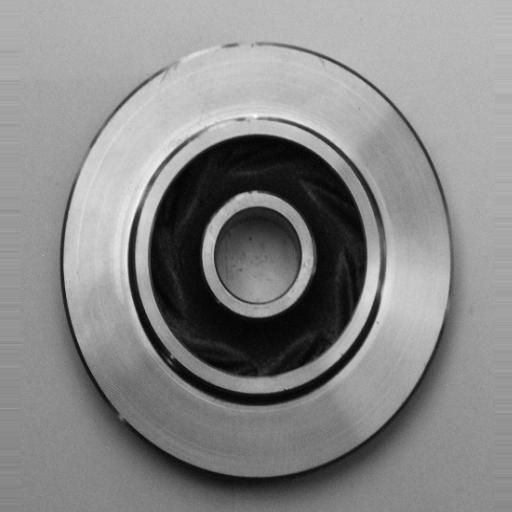scratch: (138, 35, 267, 92), (182, 106, 263, 140)
unpolished_casting: (57, 41, 456, 485)
